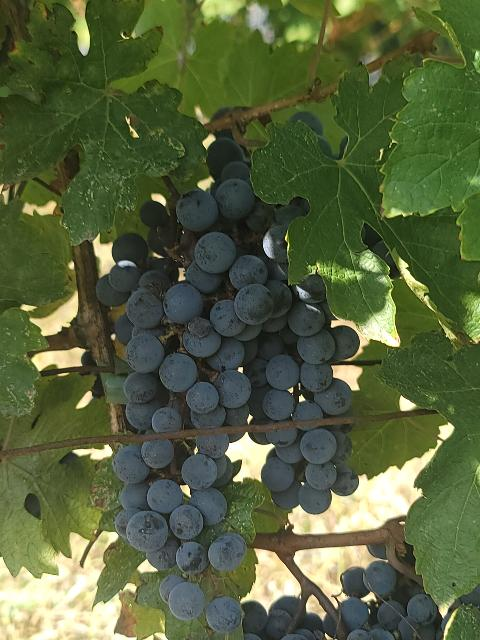grapes: (95, 136, 360, 510), (112, 430, 248, 635), (339, 560, 422, 640), (241, 595, 340, 640)
